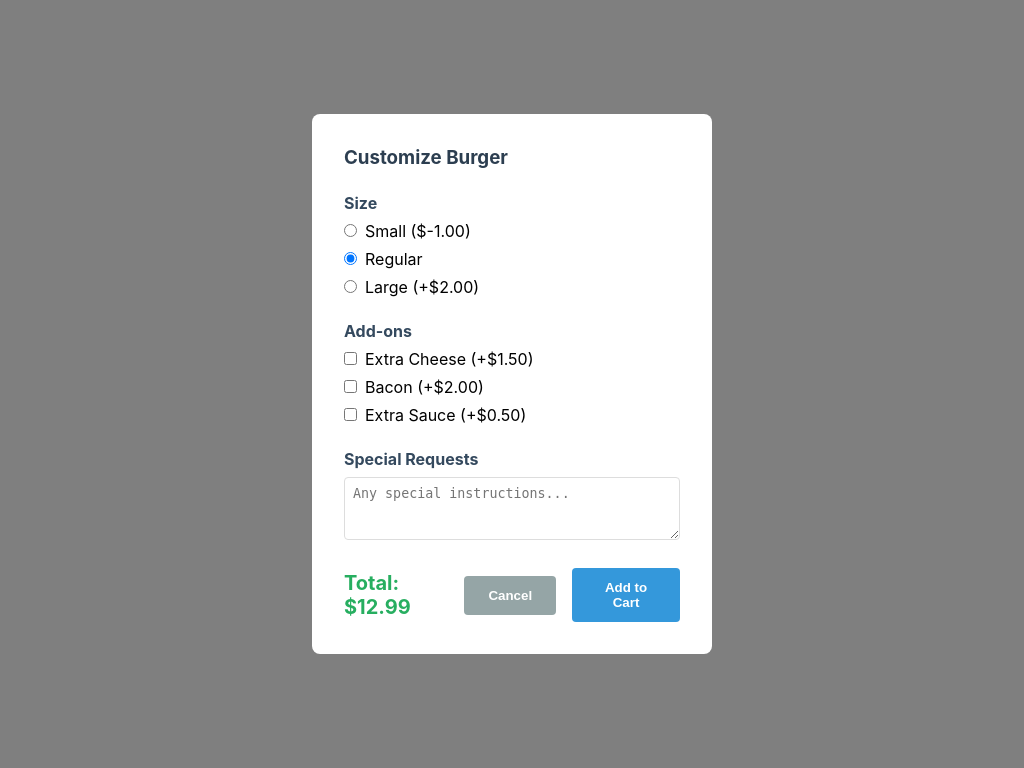
Test: OrderCustomization › calculates price with add-ons
Step 1. Click the checkbox labelled "Extra Cheese (+$1.50)" → [350, 358], box [344,352,357,365]
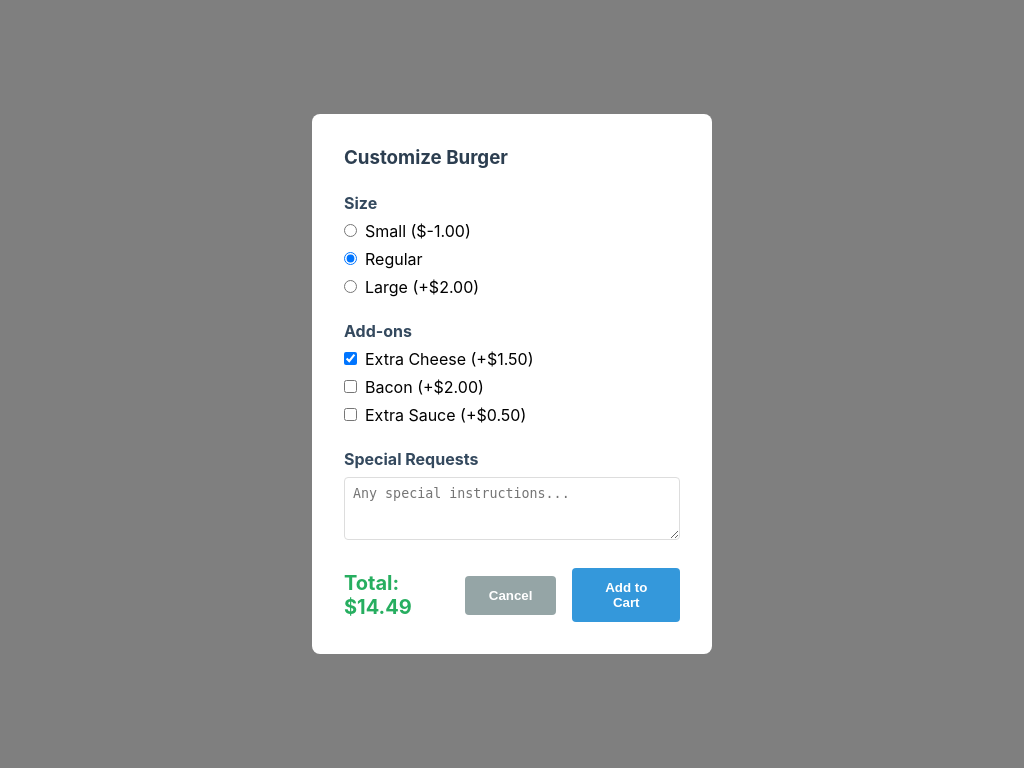
Expected: the text "Total: $14.49" is shown, [344,571,412,619]
